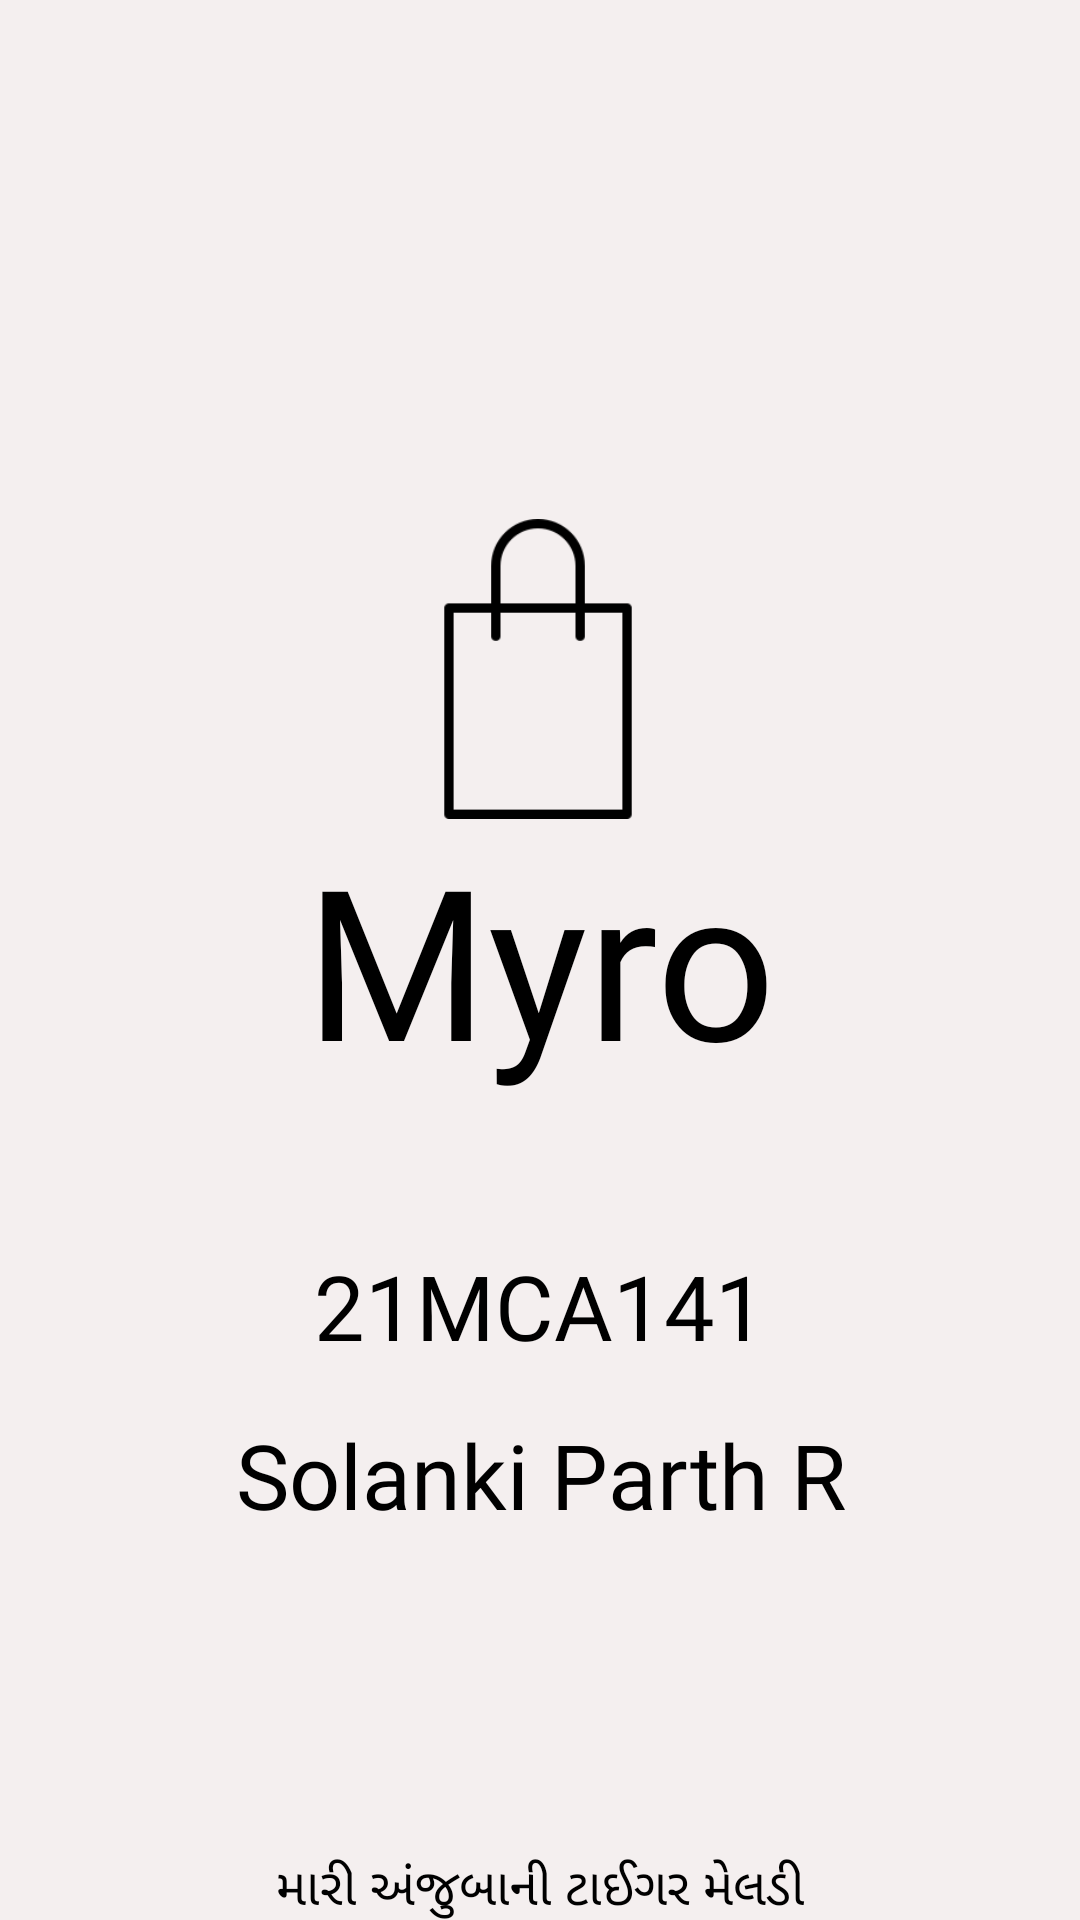

Locate icon controls on the screen. Image size 1080w x 1920h, boxes as {"x1": x1, "y1": y1, "x2": x2, "y2": y2}.
shoppingbag: {"x1": 444, "y1": 519, "x2": 632, "y2": 819}
